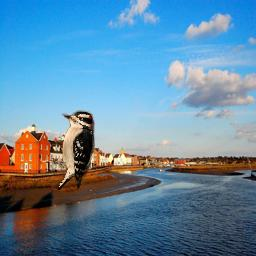Woodpecker: (48, 109, 95, 190)
